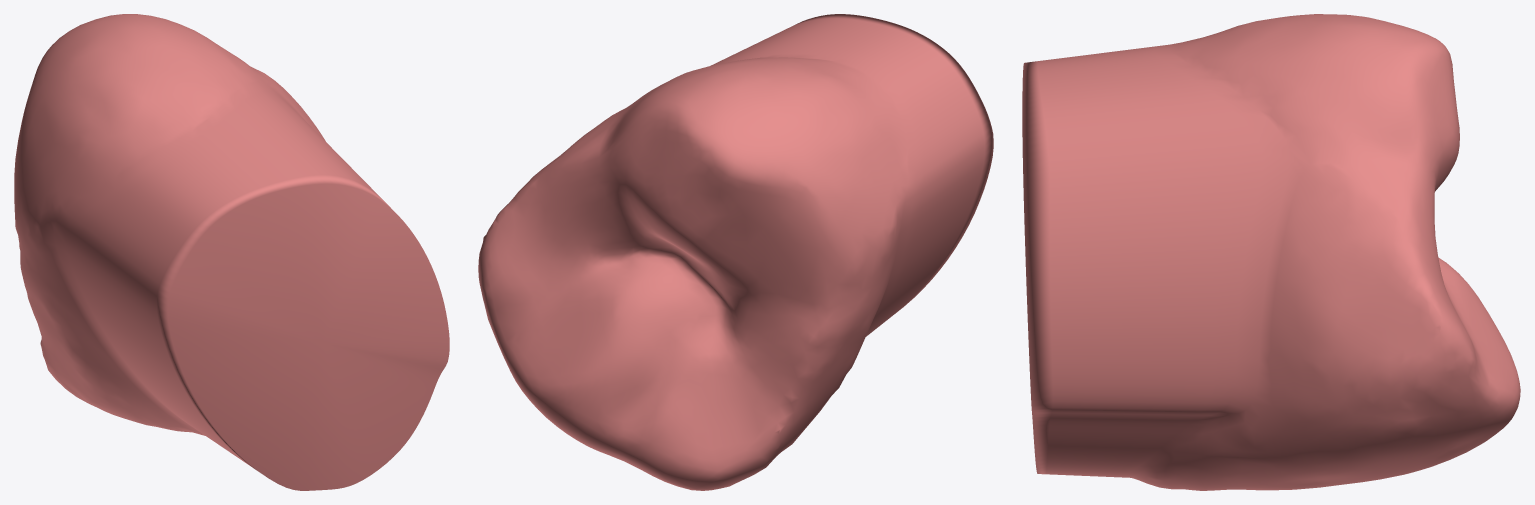
The picture shows the model from 3 angles, left to right: view 1: azimuth 30°, elevation 25°; view 2: azimuth 150°, elevation 25°; view 3: azimuth 270°, elevation 25°; orthographic projection. The views are drawn at different scales.
Bounding box in the file's own units: 7.76 × 8.33 × 8.9.
